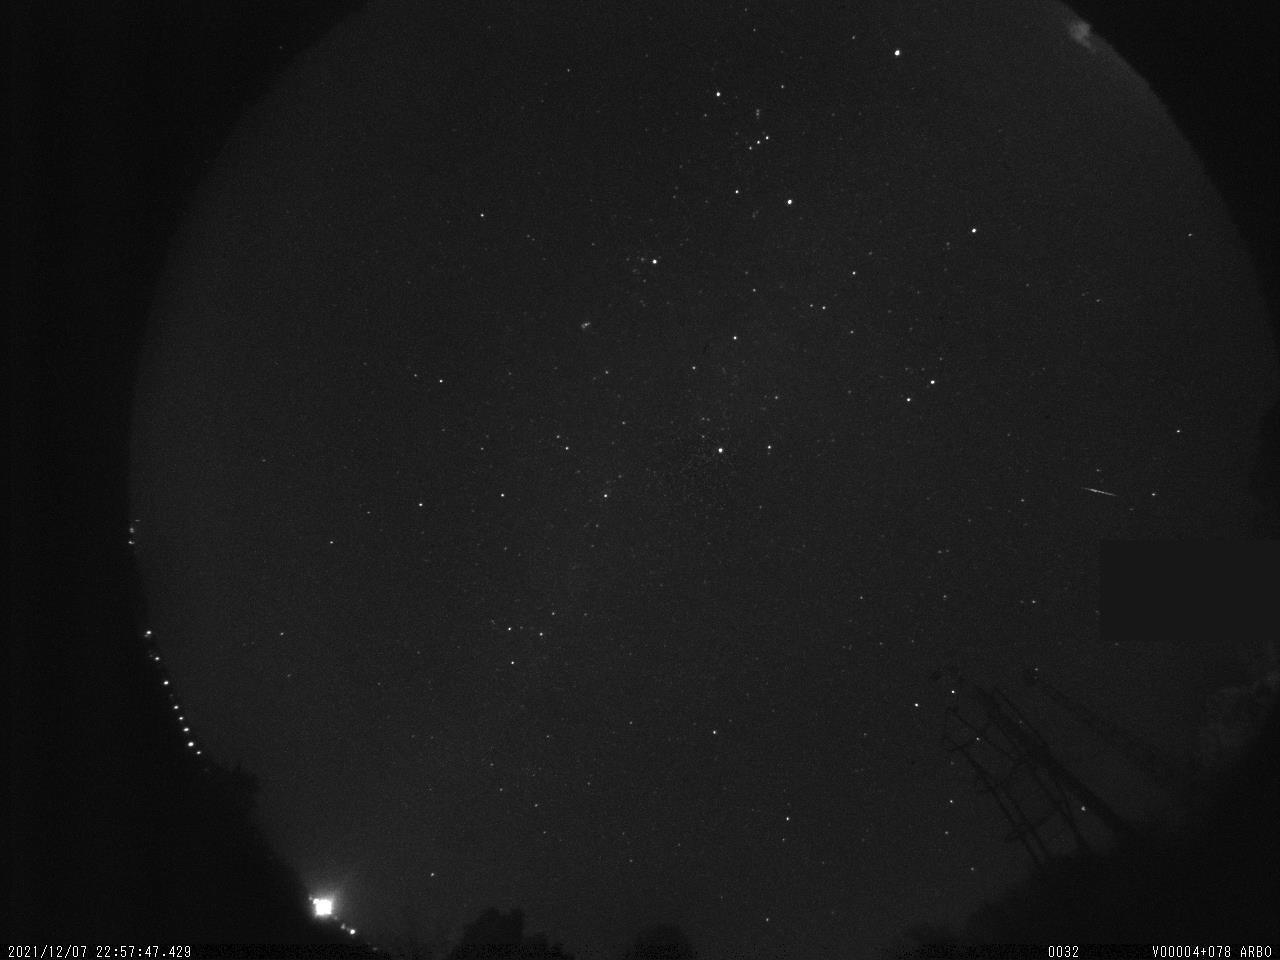meteor: (1079, 477, 1124, 500)
